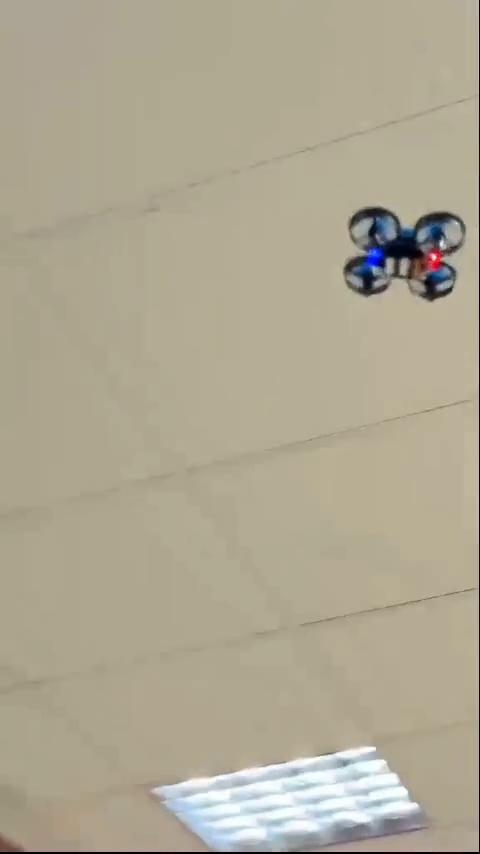drone: (345, 207, 466, 303)
